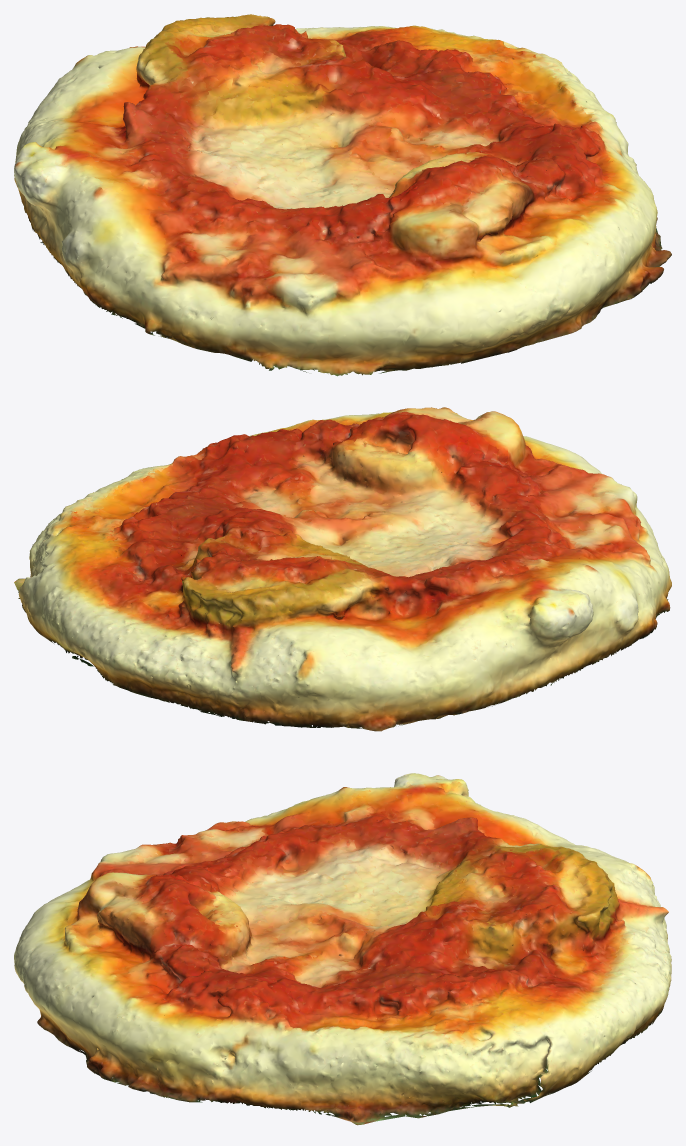
File: meshroom_pizza2_m.glb
3 renders of one model, top to bottom at view 1: azimuth 30°, elevation 25°; view 2: azimuth 150°, elevation 25°; view 3: azimuth 270°, elevation 25°, orthographic. The views are drawn at different scales.
Parts seen in each view (by area): view 1: Scan; view 2: Scan; view 3: Scan.
Part boxes in pixels (x1=…): Scan: x1=14, y1=14, x2=671, y2=376; Scan: x1=14, y1=407, x2=671, y2=731; Scan: x1=14, y1=773, x2=671, y2=1125.
Bounding box in the file's own units: 0.2845 × 0.0633 × 0.3.
Materials: 2 (1 with a texture image).
